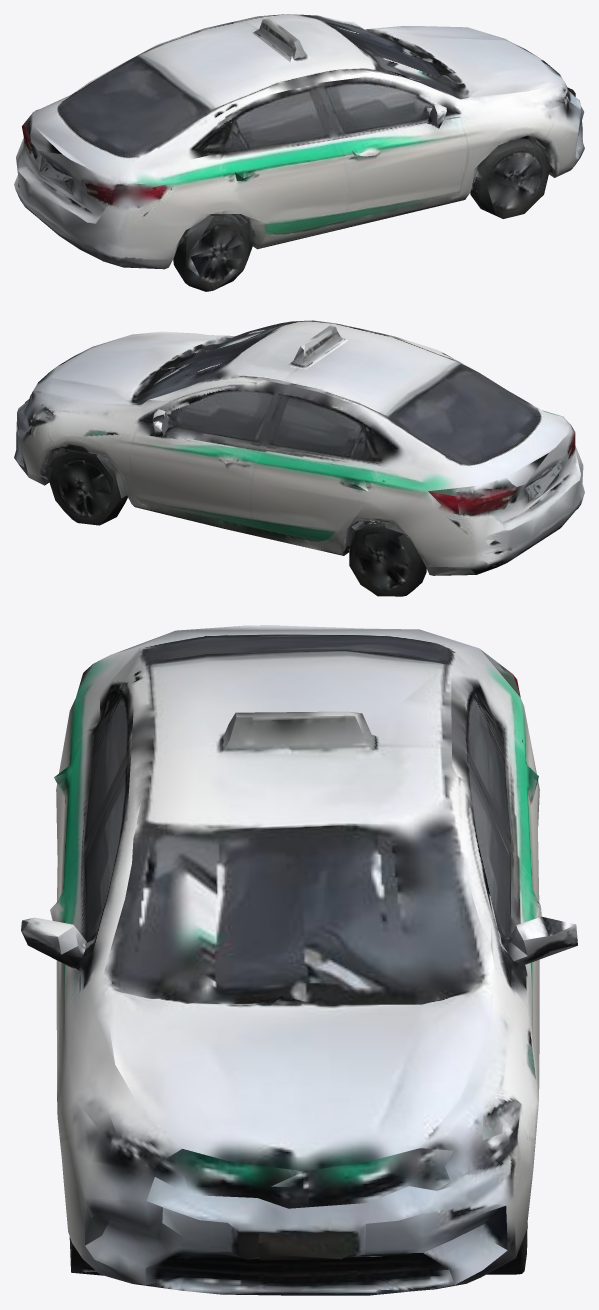
Rendered from taxi.glb.
3 views of the same model, one above another, from view 1: azimuth 30°, elevation 25°; view 2: azimuth 150°, elevation 25°; view 3: azimuth 270°, elevation 25° (orthographic). The views are drawn at different scales.
Visible parts, largest first — view 1: taxi; view 2: taxi; view 3: taxi.
Part boxes in pixels (x1,y1,x2,y2): taxi: (14,14,584,291); taxi: (14,320,584,596); taxi: (21,625,577,1295).
Size of the model in its own units: 1.01 by 0.3577 by 0.468.
Materials: 1 (1 with a texture image).
